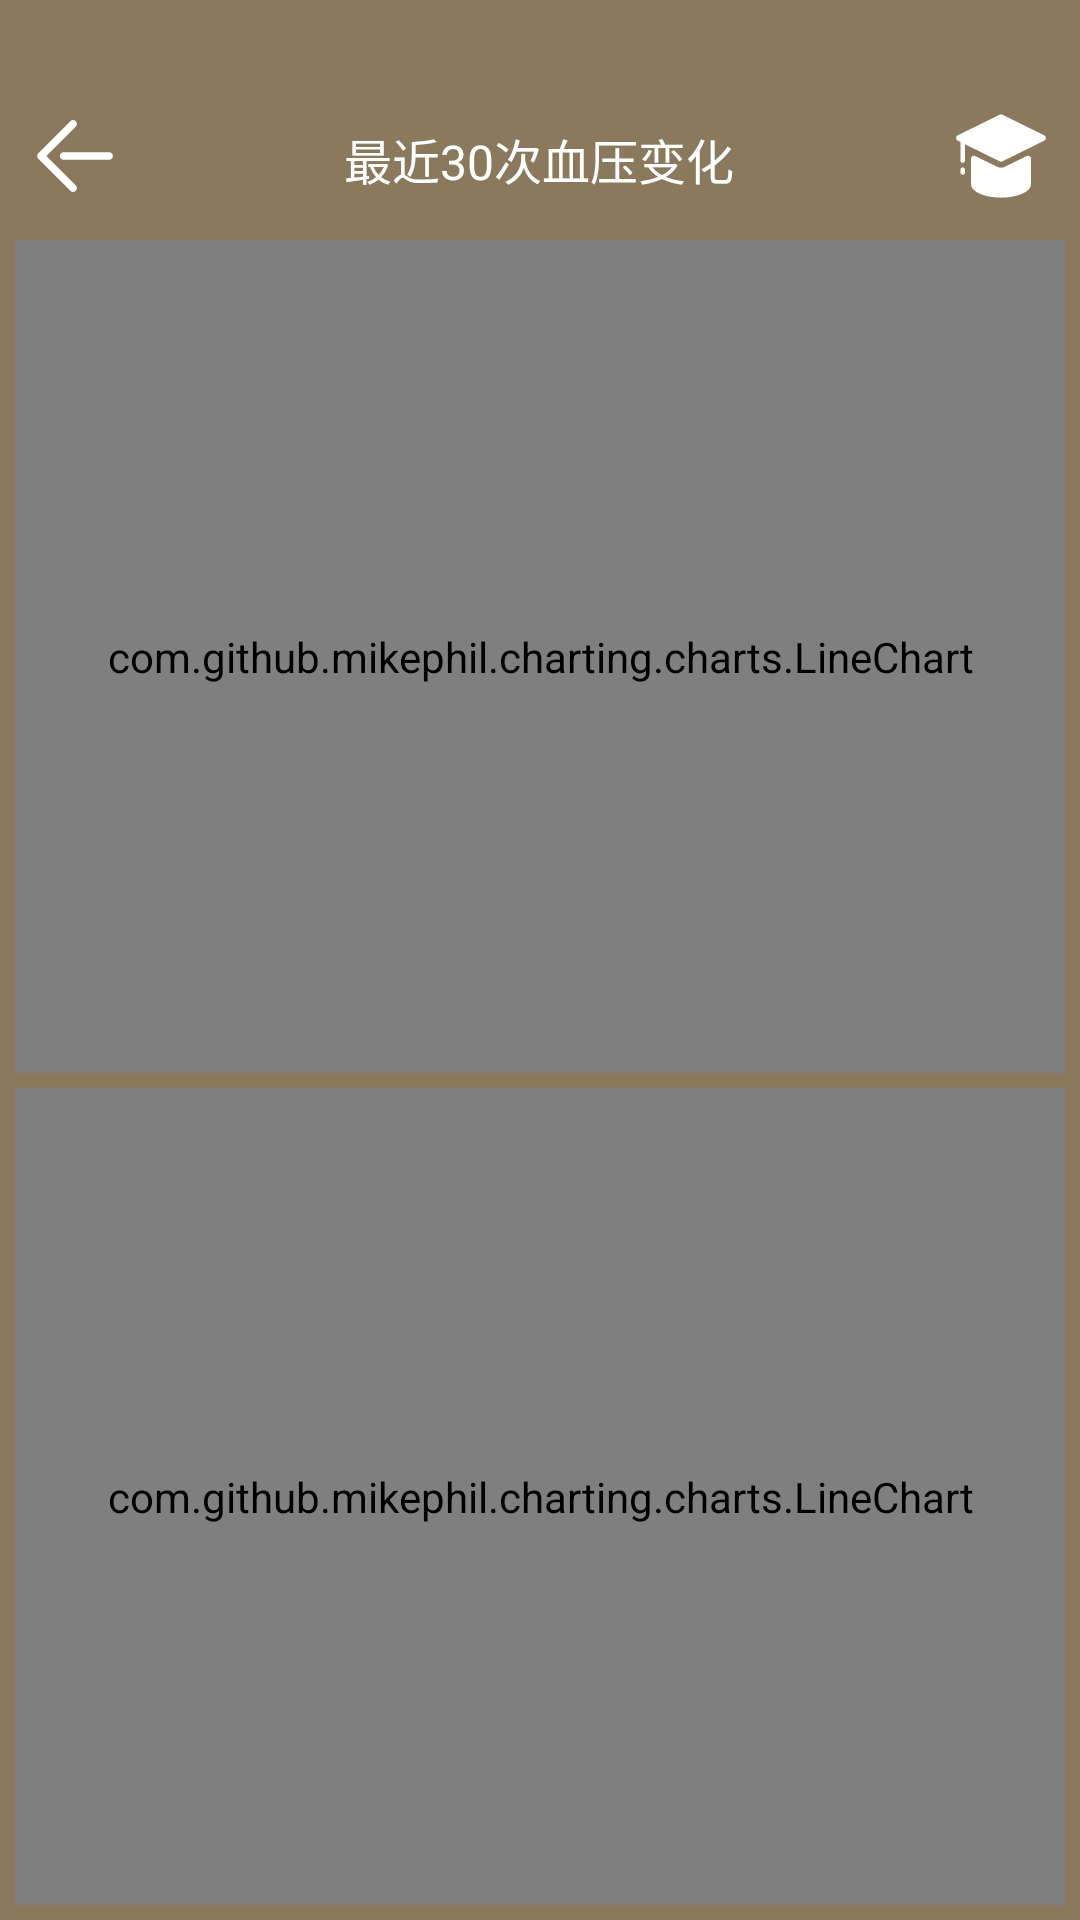

Point at icon controls on the screen. Image size 1080px x 1920px, points as (x=x, y=y).
back: (x=75, y=156)
knowledge: (x=1001, y=156)
